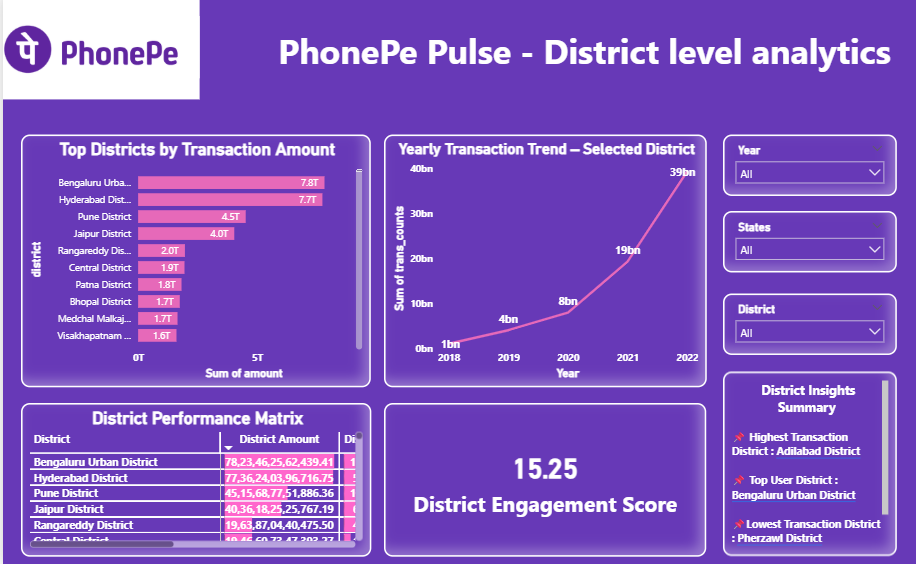

What the dashboard file says about the page in this screenshot:
{"tool":"powerbi","page":{"name":"PhonePe Pulse – District Level Analytics","canvas":[1150,720],"ordinal":2},"visuals":[{"type":"image","box":[0,0,247.4,131.6],"z":0},{"type":"textbox","box":[247.4,0,1031.6,131.6],"z":1000},{"type":"barChart","title":"Top Districts by Transaction Amount","fields":{"Category":["phonepe_district_master.district"],"Y":["Sum(phonepe_district_master.amount)"]},"box":[22,176,440,318],"z":7000},{"type":"pivotTable","title":"District Performance Matrix","fields":{"Rows":["DimDistrict.district"],"Values":["phonepe_district_master.District Amount","phonepe_district_master.District Users","phonepe_district_master.District Transactions"]},"box":[22,513.6,440.7,193.2],"z":8000},{"type":"lineChart","title":"Yearly Transaction Trend – Selected District","fields":{"Category":["phonepe_district_master.year"],"Y":["Sum(phonepe_district_master.trans_counts)"]},"box":[480,176,406,318],"z":9000},{"type":"card","title":"Cumulative Transaction Trend – Selected State","fields":{"Values":["phonepe_district_master.Engagement Score"]},"box":[480,513,405,193],"z":10000},{"type":"slicer","fields":{"Values":["DimYear.Year"]},"box":[905.7,175.5,218.9,77.4],"z":11000},{"type":"slicer","fields":{"Values":["DimState.states"]},"box":[905.7,271.7,218.9,77.4],"z":12000},{"type":"slicer","fields":{"Values":["DimDistrict.district"]},"box":[905.7,375.5,218.9,77.4],"z":15001},{"type":"textbox","box":[905.7,473.6,218.9,232.1],"z":15002}]}

Visuals, with their boxes in screenshot pixels (x1, y1, x2, y2), scaled from the page's 1150x720 canvas onto the 916x564 screenshot:
image: select_region(0, 0, 197, 103)
textbox: select_region(197, 0, 915, 103)
"Top Districts by Transaction Amount" barChart: select_region(18, 138, 368, 387)
"District Performance Matrix" pivotTable: select_region(18, 402, 369, 554)
"Yearly Transaction Trend – Selected District" lineChart: select_region(382, 138, 706, 387)
"Cumulative Transaction Trend – Selected State" card: select_region(382, 402, 705, 553)
slicer - DimYear.Year: select_region(721, 137, 896, 198)
slicer - DimState.states: select_region(721, 213, 896, 273)
slicer - DimDistrict.district: select_region(721, 294, 896, 355)
textbox: select_region(721, 371, 896, 553)
